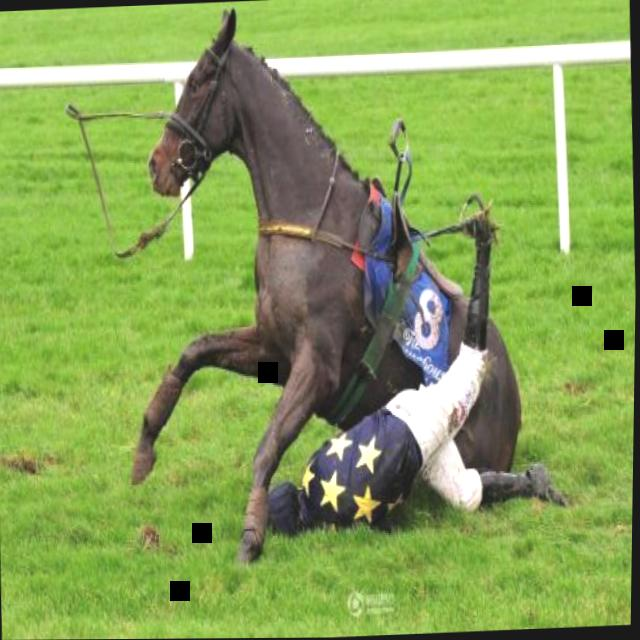Fall-Detected: (252, 295, 542, 556)
